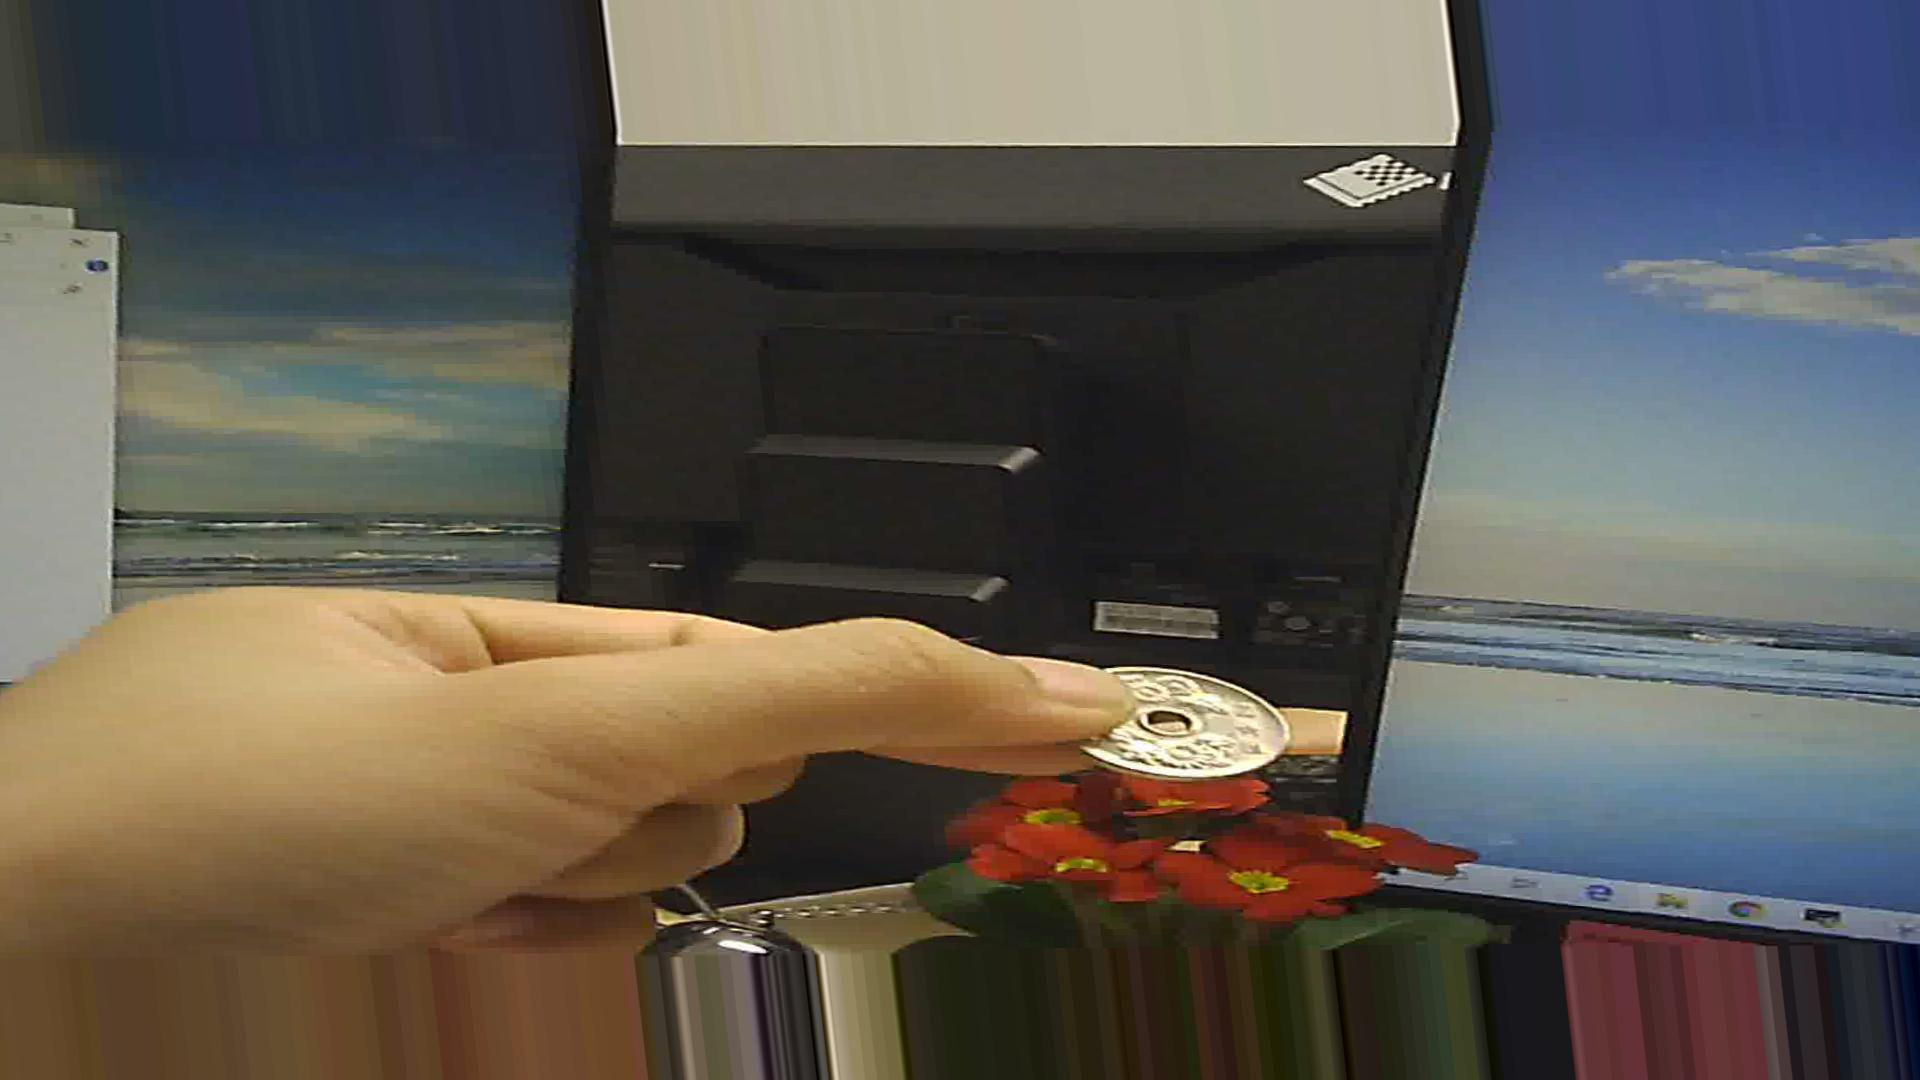50 Yen: (1051, 646, 1300, 785)
